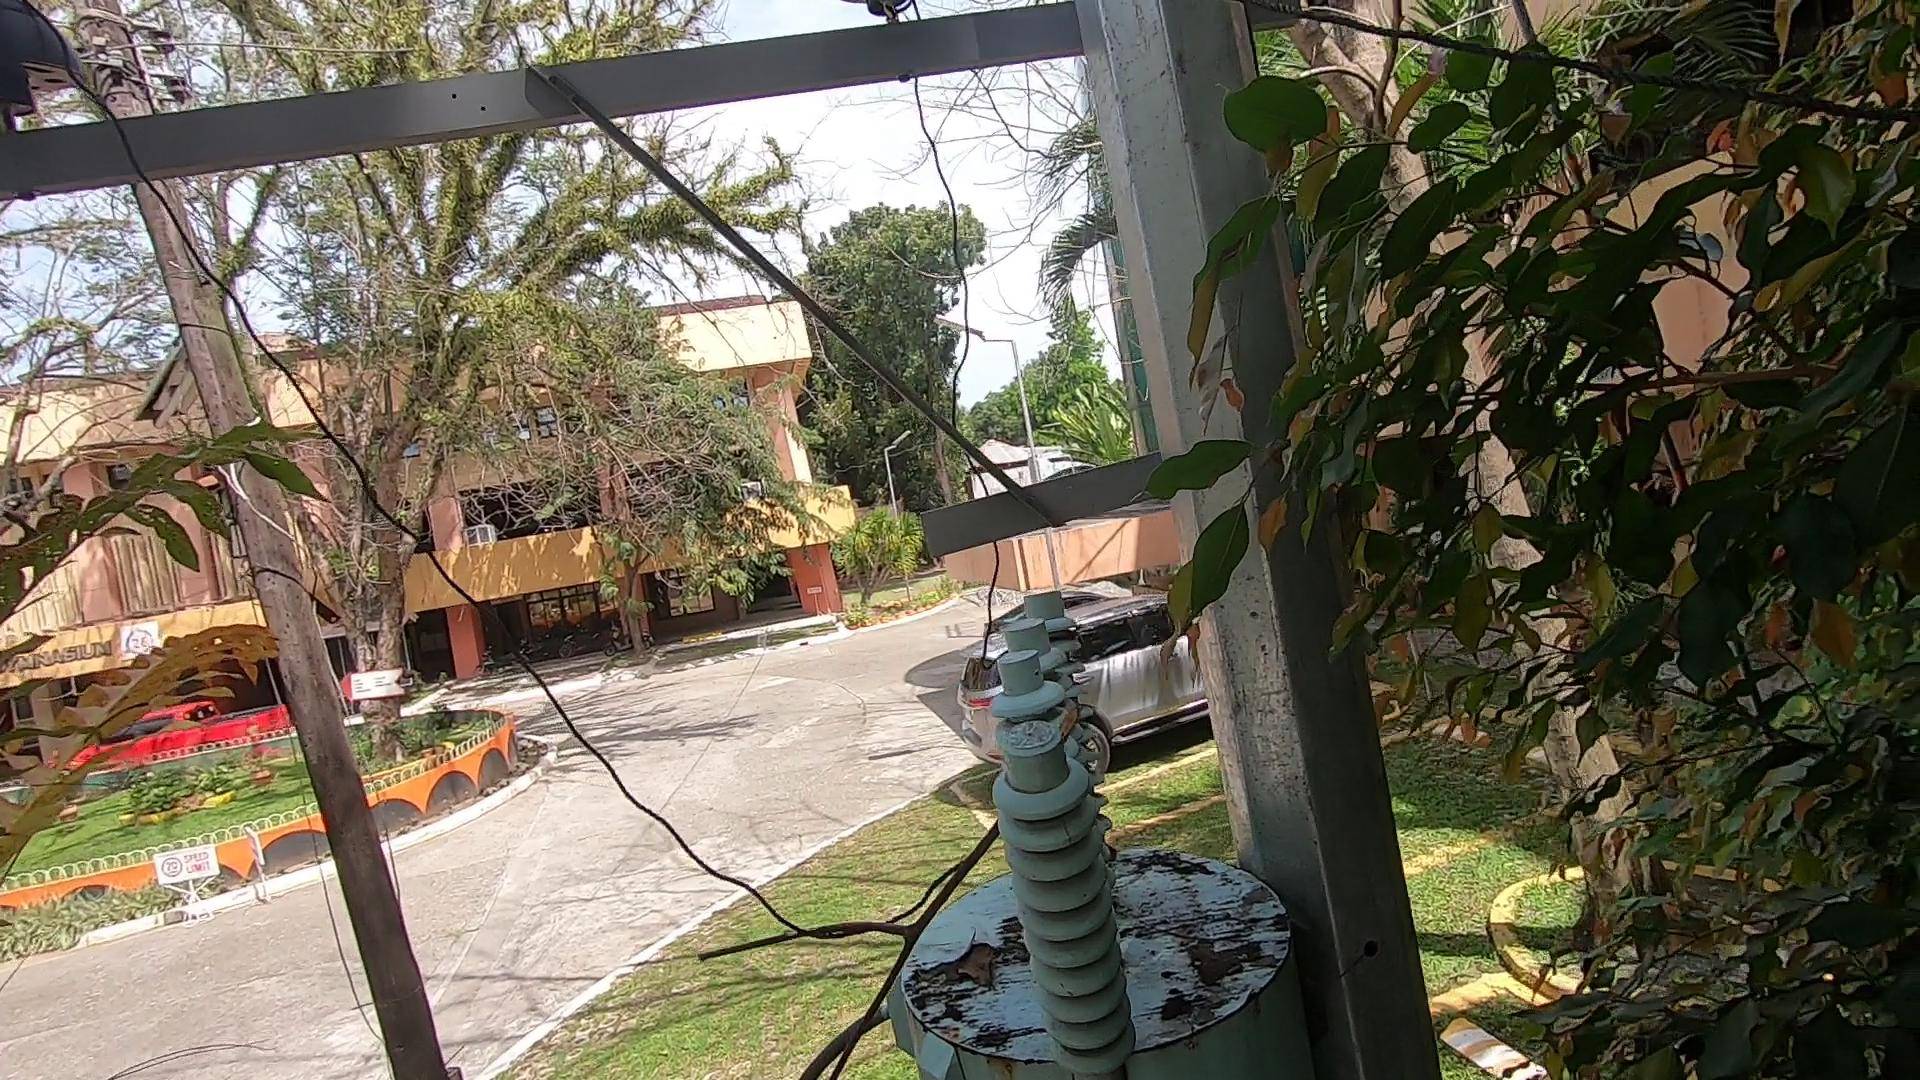leaf: (936, 930, 1010, 993)
tree branch: (649, 678, 1142, 1080)
